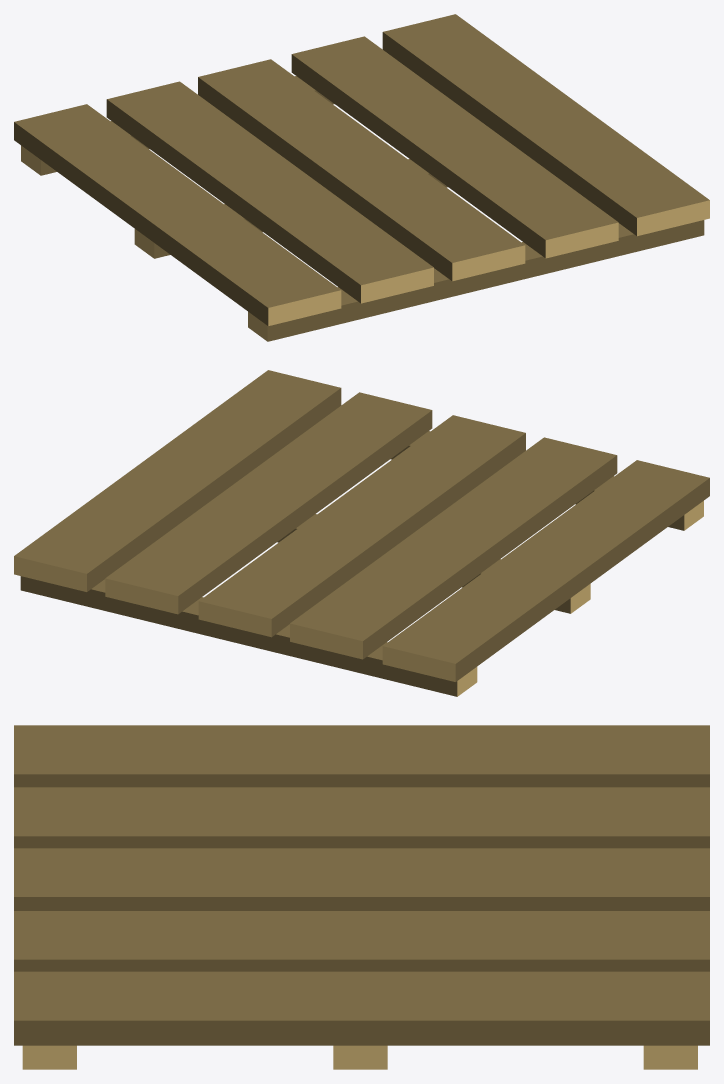
The model's file is Foundation.fbx.
3 renders of one model, top to bottom at view 1: azimuth 30°, elevation 25°; view 2: azimuth 150°, elevation 25°; view 3: azimuth 270°, elevation 25°, orthographic. The views are drawn at different scales.
Visible parts, largest first — view 1: Foundation; view 2: Foundation; view 3: Foundation.
Part boxes in pixels (x1,y1,x2,y2): Foundation: [14, 14, 709, 341]; Foundation: [14, 370, 709, 696]; Foundation: [14, 725, 709, 1069].
Bounding box in the file's own units: 199 × 15.86 × 198.
